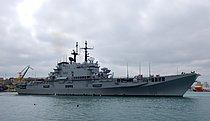MIL_Ship: (13, 42, 201, 97)
